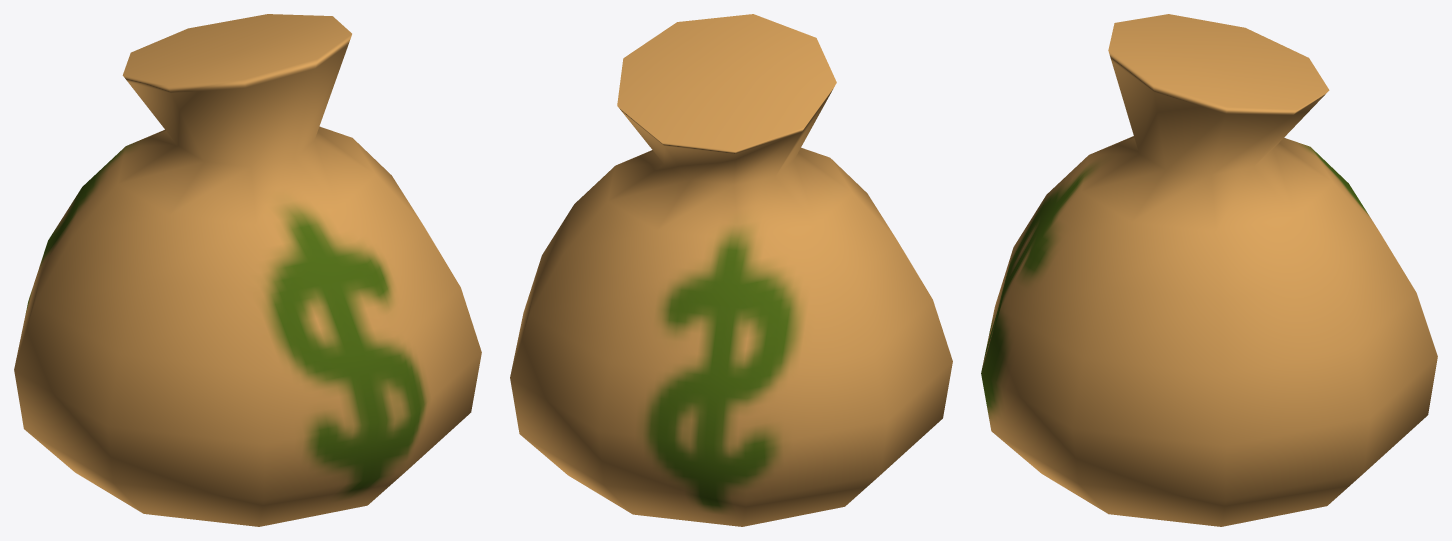
Rendered from Moneybag.fbx.
3 renders of one model, left to right at view 1: azimuth 30°, elevation 25°; view 2: azimuth 150°, elevation 25°; view 3: azimuth 270°, elevation 25°, orthographic. The views are drawn at different scales.
Visible parts, largest first — view 1: MoneyBag; view 2: MoneyBag; view 3: MoneyBag.
Part boxes in pixels (x1,y1,x2,y2): MoneyBag: [14, 14, 481, 526]; MoneyBag: [510, 14, 952, 526]; MoneyBag: [981, 14, 1437, 526].
Size of the model in its own units: 0.0649 by 0.0718 by 0.0649.
Materials: 1 (1 with a texture image).
